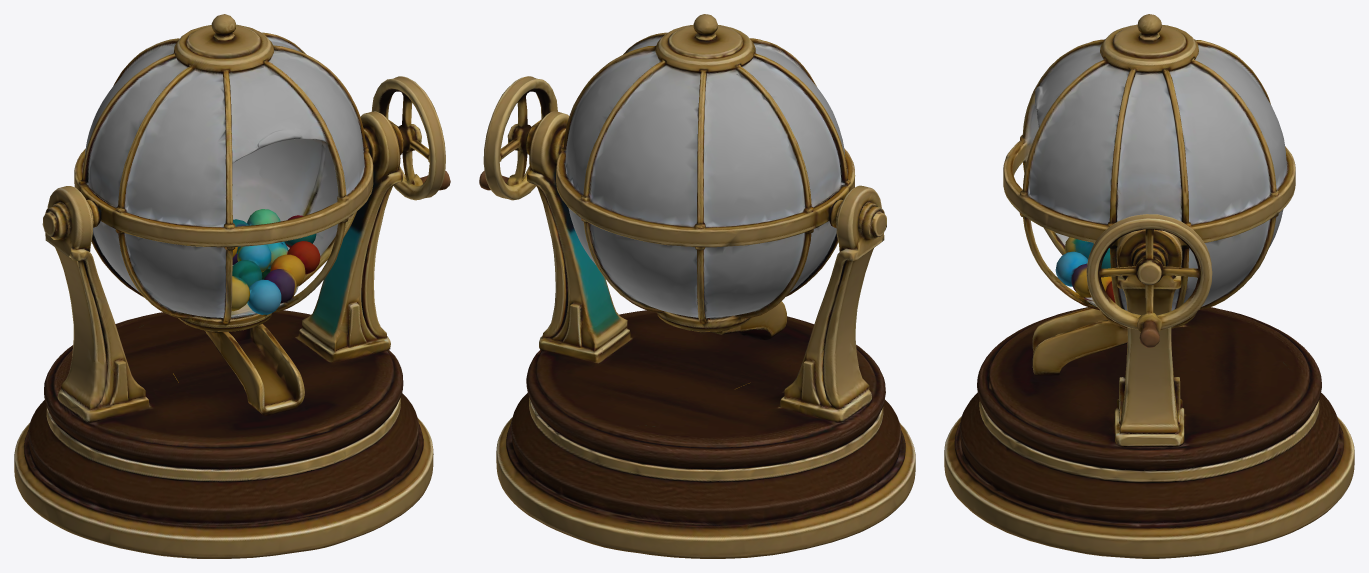
The model's file is drum-brass-glass-tripo.glb.
3 renders of one model, left to right at view 1: azimuth 30°, elevation 25°; view 2: azimuth 150°, elevation 25°; view 3: azimuth 270°, elevation 25°, orthographic.
Visible parts, largest first — view 1: tripo_node_fd8e459f-308e-467c-a3f0-0a6e48eca197; view 2: tripo_node_fd8e459f-308e-467c-a3f0-0a6e48eca197; view 3: tripo_node_fd8e459f-308e-467c-a3f0-0a6e48eca197.
Part boxes in pixels (x1,y1,x2,y2): tripo_node_fd8e459f-308e-467c-a3f0-0a6e48eca197: (14,14,450,558); tripo_node_fd8e459f-308e-467c-a3f0-0a6e48eca197: (479,14,915,558); tripo_node_fd8e459f-308e-467c-a3f0-0a6e48eca197: (944,14,1354,558).
Size of the model in its own units: 0.9296 by 1 by 0.8137.
1 material, 1 textured.
